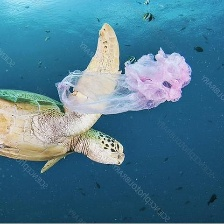plastic_bag: (50, 45, 194, 117)
